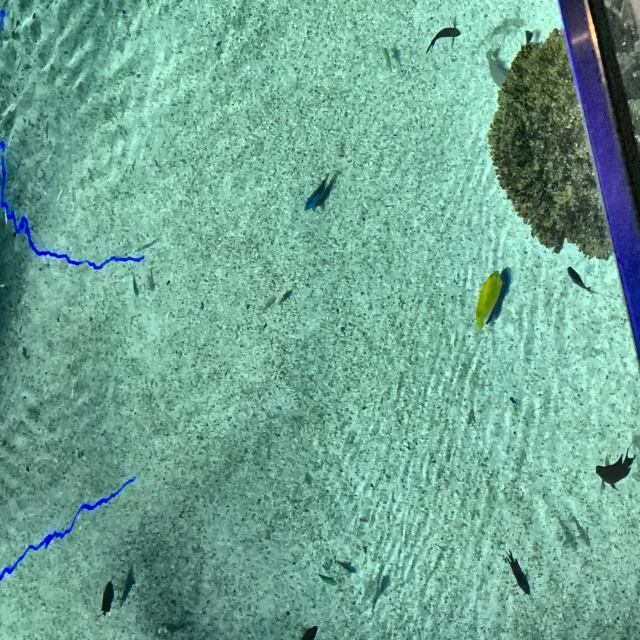fish: (471, 267, 508, 337), (593, 448, 636, 494), (503, 548, 536, 600), (425, 20, 464, 61), (564, 263, 596, 301), (301, 175, 330, 215), (485, 47, 508, 90), (100, 581, 117, 619), (315, 567, 336, 592), (261, 293, 279, 315), (335, 557, 354, 577), (298, 623, 319, 639), (129, 274, 140, 300), (382, 47, 394, 70)
